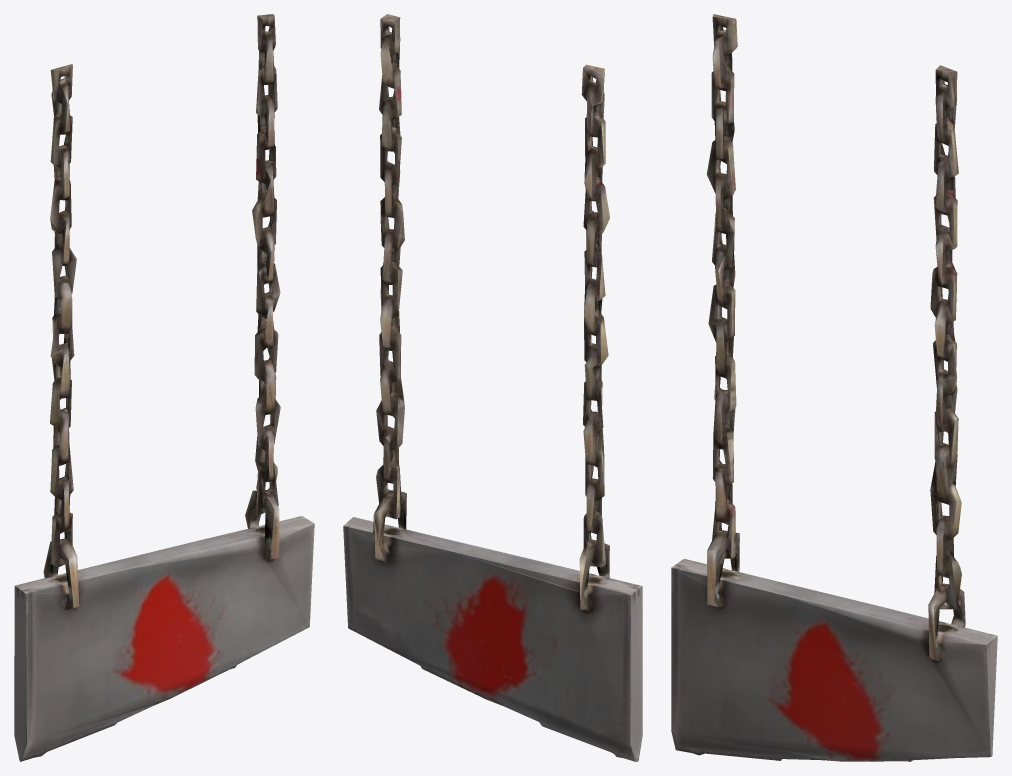
The model's file is obj_guillotine.glb.
3 views of the same model, side by side, from view 1: azimuth 30°, elevation 25°; view 2: azimuth 150°, elevation 25°; view 3: azimuth 330°, elevation 25° (orthographic). The views are drawn at different scales.
Visible parts, largest first — view 1: Guillotine trap; view 2: Guillotine trap; view 3: Guillotine trap.
Part boxes in pixels (box(x1,y1,x2,y2)): Guillotine trap: box(14, 14, 314, 761); Guillotine trap: box(343, 14, 642, 761); Guillotine trap: box(671, 14, 997, 761).
Size of the model in its own units: 0.8413 by 1.9 by 0.1539.
Materials: 1 (1 with a texture image).
